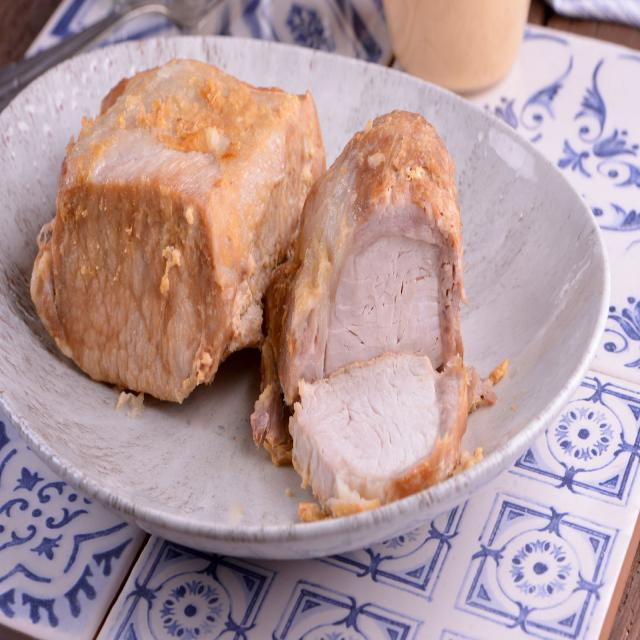carne de cerdo: (33, 35, 500, 509)
